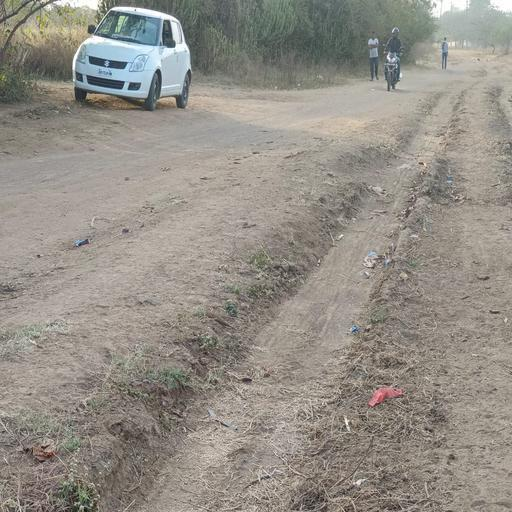vehicle_track: (123, 96, 460, 512), (0, 89, 414, 213)
